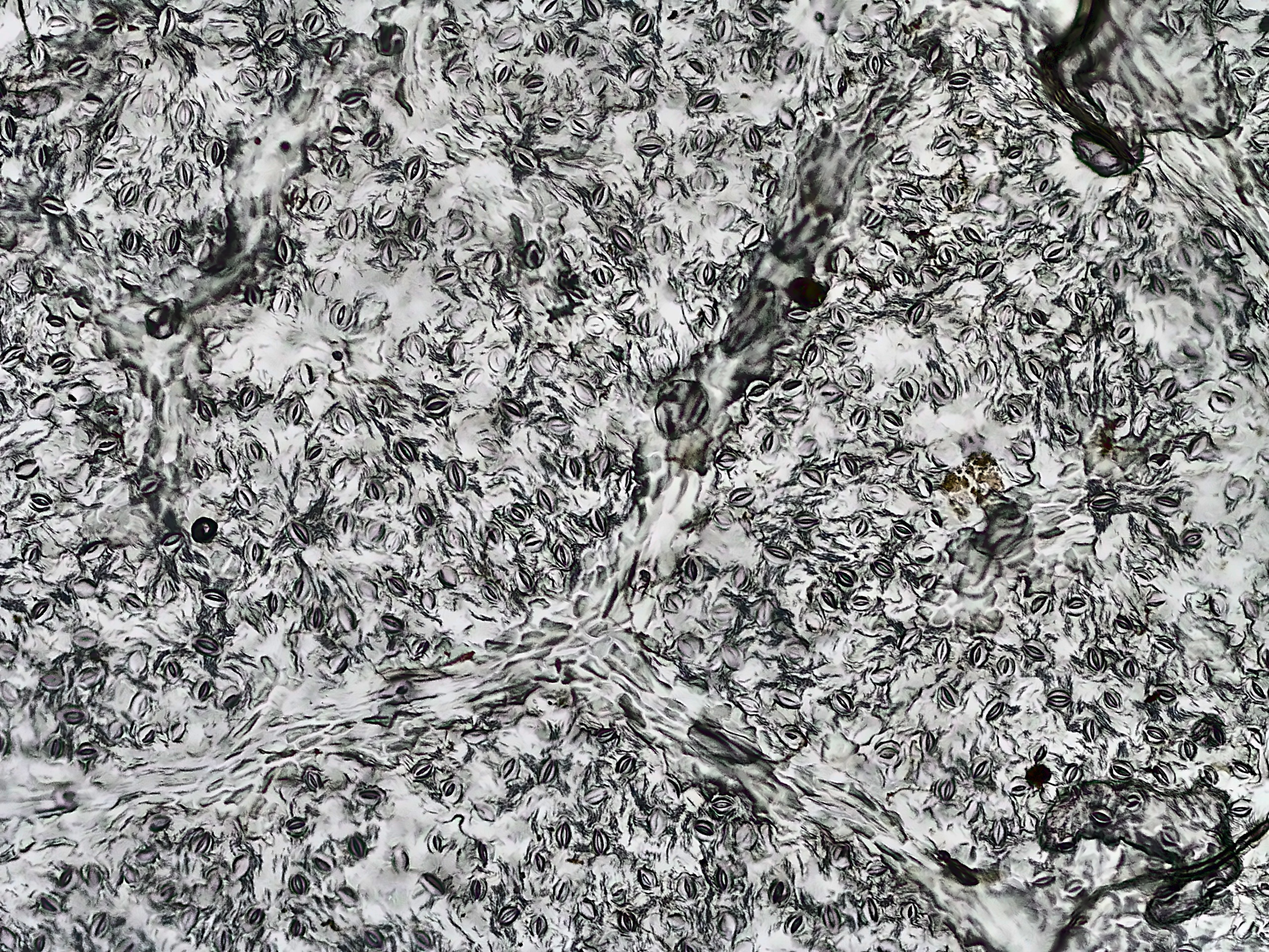stomata: (965, 558, 1001, 594), (508, 143, 546, 176), (414, 390, 456, 419), (438, 456, 468, 494), (495, 396, 529, 428), (152, 3, 181, 40), (521, 241, 554, 273), (254, 654, 290, 682), (524, 349, 557, 379), (168, 98, 197, 132), (687, 87, 721, 116), (332, 208, 364, 238), (441, 215, 474, 244), (1060, 517, 1096, 543), (834, 448, 864, 479), (399, 332, 428, 364), (902, 301, 935, 329), (1034, 522, 1068, 549), (418, 870, 449, 899), (328, 406, 356, 438), (744, 4, 778, 30), (773, 401, 808, 426), (391, 437, 420, 467), (280, 396, 309, 426), (1127, 207, 1156, 237), (376, 238, 404, 269), (235, 382, 263, 413), (531, 485, 562, 513), (674, 873, 701, 905), (714, 910, 740, 943), (694, 297, 719, 331), (214, 446, 242, 476), (1087, 210, 1113, 242), (709, 11, 734, 44), (859, 894, 884, 927), (311, 268, 339, 297), (117, 228, 145, 257), (829, 689, 858, 717), (1062, 594, 1091, 622), (113, 51, 143, 78), (85, 910, 112, 940), (429, 264, 461, 289), (584, 506, 609, 538), (245, 685, 277, 710), (69, 628, 102, 652), (868, 742, 904, 764), (404, 213, 431, 242), (193, 394, 220, 423), (74, 666, 108, 689), (712, 449, 746, 472), (1086, 490, 1120, 513), (1149, 630, 1179, 656), (1140, 538, 1170, 564), (295, 358, 320, 389), (56, 706, 91, 728), (471, 838, 494, 871), (475, 435, 503, 462), (480, 249, 507, 277), (573, 379, 600, 407), (627, 64, 655, 91), (720, 644, 747, 672), (232, 484, 258, 513), (551, 539, 577, 568), (303, 144, 329, 173), (680, 555, 706, 584), (1174, 337, 1203, 363), (365, 393, 395, 418), (552, 242, 577, 272), (26, 38, 50, 69), (39, 736, 70, 760), (433, 18, 464, 42), (442, 59, 473, 83), (756, 428, 779, 460), (610, 223, 637, 250), (692, 166, 719, 193), (27, 393, 53, 421), (542, 569, 568, 597), (634, 308, 660, 336), (629, 8, 655, 36), (798, 341, 824, 369), (933, 683, 959, 711), (1089, 804, 1117, 830), (172, 160, 197, 189), (65, 294, 94, 319), (335, 602, 360, 631), (927, 378, 956, 403), (779, 724, 808, 749), (1004, 776, 1033, 801), (1214, 523, 1243, 548), (237, 68, 267, 92), (90, 401, 126, 421), (351, 785, 387, 805), (1111, 610, 1135, 640), (591, 445, 614, 476), (1050, 460, 1082, 482), (285, 521, 311, 548), (62, 55, 89, 81), (81, 863, 108, 889), (560, 455, 586, 482), (1148, 762, 1175, 788), (72, 227, 100, 252), (494, 298, 522, 323), (827, 68, 852, 96), (328, 301, 352, 330), (691, 125, 715, 154), (569, 111, 592, 141), (88, 434, 124, 453), (822, 899, 841, 935), (898, 627, 924, 653), (981, 698, 1007, 724), (134, 724, 161, 749), (459, 96, 484, 123), (827, 841, 852, 868), (1128, 357, 1153, 384), (458, 406, 485, 431), (329, 456, 353, 484), (162, 225, 183, 257), (684, 52, 708, 80), (693, 260, 717, 288), (862, 51, 886, 79), (975, 259, 1003, 283), (762, 544, 794, 565), (1105, 258, 1126, 290), (828, 305, 857, 328), (775, 688, 804, 711), (219, 660, 248, 683), (204, 137, 226, 167), (270, 66, 292, 96), (126, 648, 148, 678), (503, 98, 523, 131), (867, 2, 897, 24), (1020, 640, 1050, 662), (25, 492, 56, 513), (38, 196, 69, 217), (1222, 348, 1253, 369), (1183, 116, 1214, 137), (439, 779, 464, 805), (152, 575, 176, 602), (112, 266, 139, 290), (492, 60, 516, 87), (1100, 686, 1124, 713), (1142, 724, 1169, 748), (1177, 245, 1201, 272), (88, 13, 122, 32), (125, 689, 148, 717), (638, 132, 661, 160), (779, 48, 802, 76), (744, 379, 772, 402), (14, 459, 43, 481), (89, 154, 118, 176), (742, 123, 764, 152), (945, 71, 974, 93), (118, 859, 139, 889), (512, 566, 537, 591), (911, 474, 936, 499), (462, 366, 486, 392), (189, 830, 215, 854), (739, 47, 763, 73), (1022, 357, 1046, 383), (675, 636, 701, 660), (733, 823, 757, 849), (950, 496, 974, 522), (115, 181, 138, 208), (211, 925, 234, 952), (897, 376, 920, 403), (690, 820, 717, 843), (443, 339, 465, 367), (200, 589, 228, 611), (413, 502, 435, 530), (487, 345, 509, 373), (589, 183, 611, 211), (973, 358, 995, 386), (190, 636, 224, 654), (31, 144, 52, 173), (1178, 737, 1199, 766), (0, 114, 19, 146), (375, 614, 405, 634), (480, 524, 505, 548), (543, 416, 573, 436), (862, 483, 892, 503), (662, 591, 687, 615), (729, 565, 753, 590), (785, 915, 809, 940), (916, 729, 941, 753), (1087, 643, 1107, 673), (1142, 517, 1166, 542), (1172, 400, 1197, 424), (1147, 272, 1171, 297), (1225, 475, 1249, 500), (842, 365, 868, 388), (769, 880, 792, 906), (1063, 762, 1086, 788), (404, 156, 426, 183), (39, 313, 72, 331), (304, 606, 326, 633), (930, 133, 957, 155), (1054, 420, 1081, 442), (1177, 529, 1204, 551), (885, 447, 916, 466), (733, 694, 764, 713), (78, 91, 106, 112), (830, 334, 858, 355), (1043, 241, 1071, 262), (662, 774, 683, 802), (990, 529, 1018, 550), (60, 124, 80, 153), (337, 89, 366, 109), (1045, 689, 1074, 709), (1108, 380, 1128, 409), (29, 600, 53, 624), (739, 224, 763, 248), (924, 508, 948, 532), (0, 637, 23, 662), (34, 893, 59, 916), (833, 566, 858, 589), (1131, 561, 1156, 584), (1187, 433, 1210, 458), (1159, 824, 1184, 847), (1242, 724, 1265, 749), (537, 758, 559, 784), (879, 409, 905, 431), (1004, 398, 1030, 420), (870, 558, 896, 580), (1121, 657, 1143, 683), (1165, 8, 1187, 34), (3, 274, 33, 293), (798, 469, 825, 490), (1007, 439, 1034, 460), (1107, 761, 1134, 782), (118, 594, 146, 614), (407, 929, 435, 949), (45, 14, 73, 34), (493, 27, 521, 47), (754, 599, 774, 627), (1152, 685, 1180, 705), (1064, 876, 1095, 894), (189, 456, 212, 480), (161, 658, 184, 682), (379, 531, 403, 554), (437, 565, 460, 589), (1024, 304, 1047, 328), (1122, 792, 1145, 816), (1245, 678, 1268, 702), (1200, 230, 1224, 253), (276, 235, 295, 264), (868, 668, 897, 687), (1, 347, 26, 369), (133, 844, 158, 866), (153, 883, 178, 905), (302, 11, 324, 36), (1159, 375, 1181, 400), (104, 717, 125, 743), (261, 23, 287, 44), (1012, 210, 1038, 231), (1049, 200, 1075, 221), (712, 510, 738, 531), (1234, 920, 1260, 941), (157, 531, 184, 551), (144, 192, 164, 219), (303, 765, 323, 792), (652, 224, 670, 254), (841, 20, 868, 40), (708, 601, 735, 621), (1083, 718, 1103, 745), (393, 478, 411, 508), (521, 73, 549, 92), (977, 193, 1005, 212), (1208, 392, 1236, 411), (328, 654, 351, 677), (26, 929, 49, 952), (774, 106, 797, 129), (374, 203, 396, 227), (220, 687, 242, 711), (230, 855, 252, 879), (559, 68, 581, 92), (993, 305, 1015, 329), (898, 901, 920, 925), (67, 579, 98, 596), (536, 27, 553, 58), (260, 592, 285, 613), (48, 354, 73, 375), (32, 265, 53, 290), (167, 717, 188, 742), (355, 579, 380, 600), (923, 42, 944, 67), (936, 777, 957, 802), (1028, 743, 1053, 764), (1112, 320, 1133, 345), (727, 488, 756, 506), (1008, 5, 1026, 34), (1220, 375, 1249, 393), (310, 189, 330, 215), (191, 678, 211, 704), (392, 845, 412, 871), (552, 878, 572, 904), (1131, 410, 1151, 436), (476, 581, 503, 600), (1221, 283, 1251, 300), (364, 480, 387, 502), (99, 121, 122, 143), (795, 437, 818, 459), (969, 757, 992, 779), (1028, 594, 1050, 617), (0, 681, 21, 705), (385, 575, 409, 596), (634, 199, 655, 223), (1207, 595, 1228, 619), (591, 266, 616, 286), (849, 406, 869, 431), (335, 512, 354, 538), (146, 814, 172, 833), (554, 822, 573, 848), (890, 521, 916, 540), (1204, 878, 1230, 897), (1227, 798, 1253, 817), (205, 868, 223, 895), (1013, 99, 1040, 117), (244, 906, 266, 928), (286, 918, 308, 940), (411, 637, 433, 659), (497, 904, 519, 926), (1062, 330, 1084, 352), (817, 591, 839, 613), (346, 835, 367, 858), (888, 267, 911, 288), (1031, 176, 1054, 197), (519, 533, 543, 553), (427, 829, 447, 853), (410, 760, 434, 780), (500, 756, 520, 780), (654, 177, 674, 201), (783, 643, 807, 663), (933, 639, 953, 663), (290, 573, 307, 601), (39, 670, 67, 687), (225, 42, 253, 59), (243, 539, 262, 564), (80, 541, 105, 560), (614, 291, 639, 310), (1068, 290, 1087, 315), (1229, 760, 1254, 779), (59, 478, 85, 496), (591, 828, 609, 854), (784, 307, 810, 325), (781, 378, 807, 396), (1008, 466, 1034, 484), (1214, 104, 1232, 130), (1030, 873, 1059, 889), (447, 529, 468, 551), (653, 352, 674, 374), (563, 34, 584, 56), (328, 154, 348, 177), (289, 873, 309, 896), (310, 853, 333, 873), (876, 240, 899, 260), (545, 932, 568, 952), (1052, 490, 1079, 507), (136, 475, 160, 494), (21, 541, 40, 565), (179, 907, 198, 931), (336, 886, 360, 905), (471, 878, 489, 903), (830, 248, 848, 273), (961, 226, 986, 244), (895, 183, 923, 199), (709, 797, 735, 814), (970, 643, 987, 669), (190, 551, 216, 568), (417, 588, 438, 609), (638, 868, 658, 890), (603, 352, 623, 374), (939, 244, 959, 266), (1199, 766, 1219, 788), (76, 742, 99, 761), (506, 503, 529, 522), (483, 474, 506, 493), (716, 865, 731, 894), (289, 186, 307, 210), (732, 273, 750, 297), (863, 861, 890, 877), (283, 817, 308, 834), (617, 468, 634, 493), (366, 521, 386, 542), (758, 178, 778, 199), (920, 267, 940, 288), (958, 325, 978, 346), (1145, 595, 1166, 615), (991, 53, 1012, 73), (203, 329, 225, 348), (584, 0, 606, 19), (941, 182, 960, 204), (864, 210, 886, 229), (583, 789, 609, 805), (819, 386, 845, 402), (583, 316, 606, 334), (539, 111, 562, 129), (997, 655, 1015, 678), (245, 283, 262, 307), (192, 239, 209, 263), (1195, 661, 1212, 685), (804, 613, 824, 633), (245, 441, 264, 462), (362, 928, 383, 947), (577, 899, 596, 920), (474, 803, 495, 822), (849, 517, 868, 538), (1112, 415, 1133, 434), (252, 619, 271, 640), (57, 865, 75, 887), (1208, 724, 1226, 746), (531, 852, 548, 875), (327, 38, 344, 61), (664, 911, 687, 928), (913, 545, 936, 562), (848, 596, 874, 611), (1154, 494, 1180, 509), (9, 579, 33, 595), (329, 127, 353, 143), (306, 445, 326, 464), (930, 452, 951, 470), (918, 573, 939, 591), (791, 514, 820, 527), (997, 510, 1026, 523), (530, 915, 547, 937), (619, 911, 636, 933), (961, 109, 984, 125), (883, 110, 906, 126), (1116, 915, 1142, 929), (615, 757, 635, 775), (1232, 66, 1256, 81), (271, 290, 288, 311), (70, 385, 91, 402), (1213, 0, 1234, 17), (962, 162, 984, 178), (461, 731, 486, 745), (1003, 147, 1026, 162), (595, 82, 614, 100), (361, 129, 381, 146), (1248, 132, 1269, 148), (595, 727, 617, 741), (213, 211, 230, 229), (902, 221, 927, 233), (891, 149, 911, 163), (993, 821, 1004, 845), (810, 374, 827, 389), (1146, 855, 1163, 870), (613, 889, 627, 906), (1253, 45, 1269, 57)
